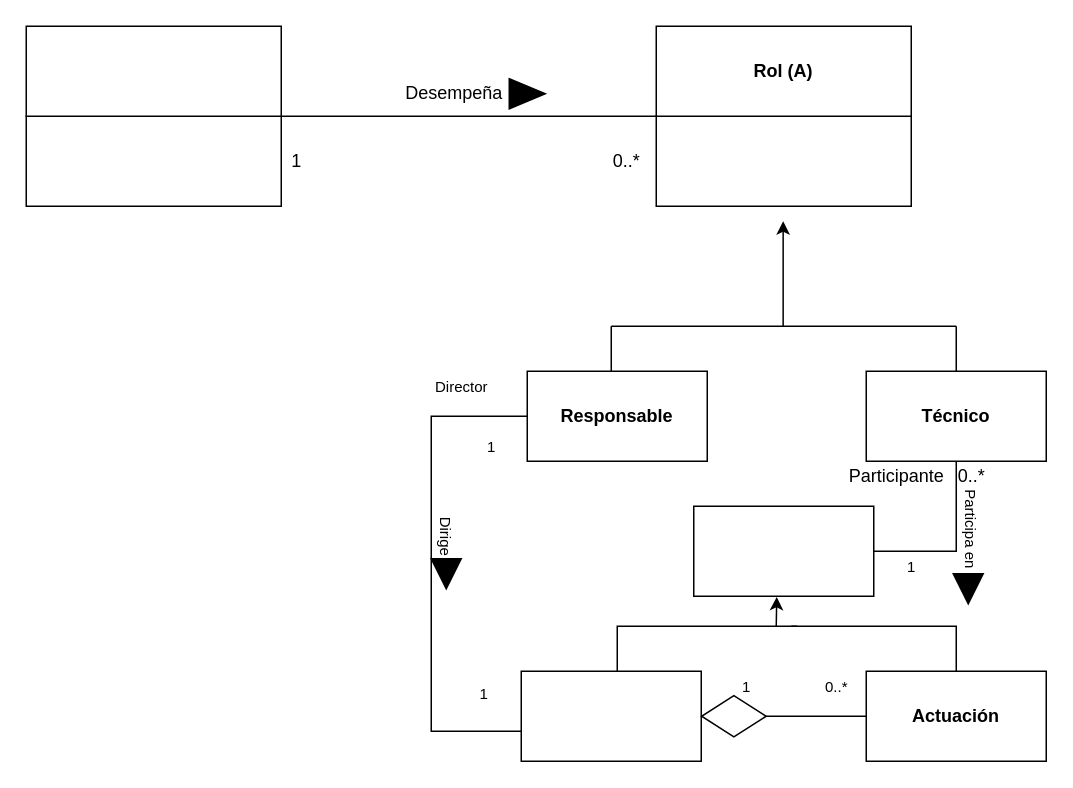
This 1073x788 diagram has some shape labels left out. The shapes that lost their labels are listed below. From the top down, each one's centre as x and y in pixels, then its label:
At (x=153, y=70): "Persona".
At (x=783, y=550): "Intervención (A)".
At (x=610, y=715): "Proyecto".
